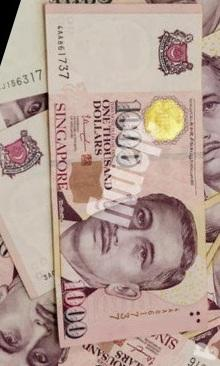1000SingaporeDollar: (55, 5, 202, 339)
